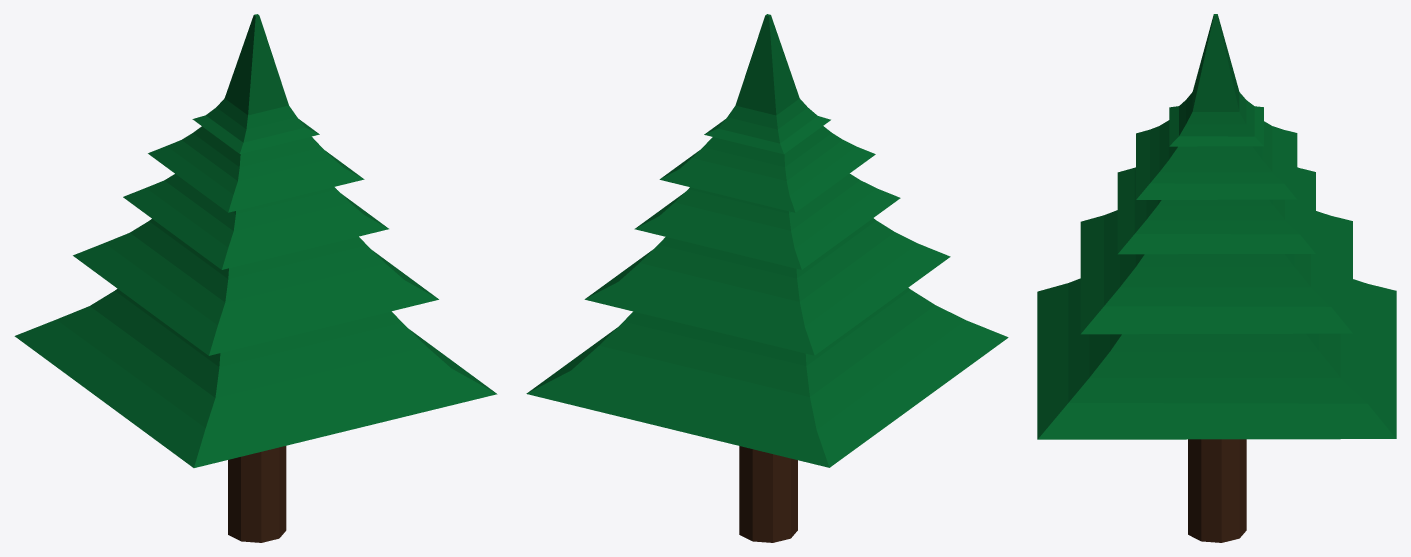
Rendered from Tree1.fbx.
3 renders of one model, left to right at view 1: azimuth 30°, elevation 25°; view 2: azimuth 150°, elevation 25°; view 3: azimuth 270°, elevation 25°, orthographic.
Parts seen in each view (by area): view 1: Cube, Cube.001, Cube.002, Cube.003, Cube.004, Cylinder; view 2: Cube, Cube.001, Cube.002, Cube.003, Cube.004, Cylinder; view 3: Cube, Cube.001, Cube.002, Cube.003, Cube.004, Cylinder.
Part boxes in pixels (box(x1,y1,x2,y2)): Cube: box(14, 289, 497, 467); Cube.001: box(73, 219, 438, 355); Cube.002: box(123, 174, 388, 269); Cube.003: box(148, 126, 364, 212); Cube.004: box(192, 14, 319, 153); Cylinder: box(228, 446, 286, 542); Cube: box(526, 287, 1008, 467); Cube.001: box(584, 218, 950, 355); Cube.002: box(634, 173, 900, 269); Cube.003: box(659, 126, 875, 212); Cube.004: box(704, 14, 830, 154); Cylinder: box(739, 446, 797, 542); Cube: box(1037, 278, 1396, 439); Cube.001: box(1080, 210, 1352, 334); Cube.002: box(1117, 167, 1315, 254); Cube.003: box(1136, 120, 1297, 199); Cube.004: box(1169, 14, 1263, 146); Cylinder: box(1188, 439, 1246, 542).
Bounding box in the file's own units: 596 × 967 × 610.
